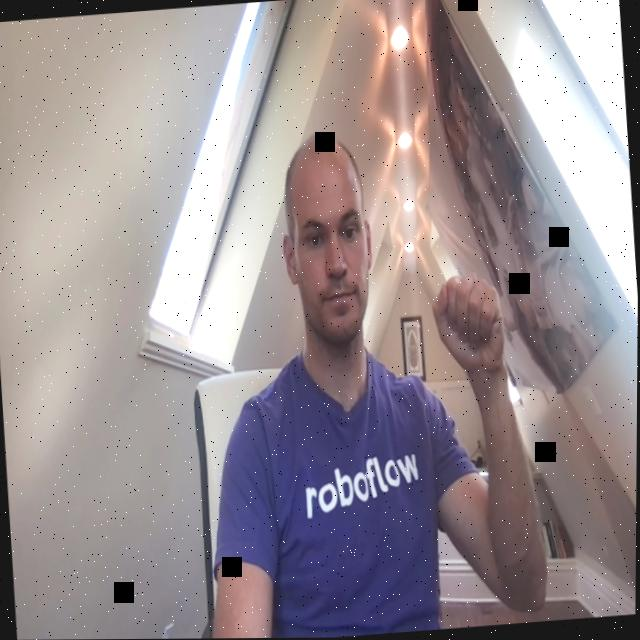Rock: (425, 272, 511, 375)
